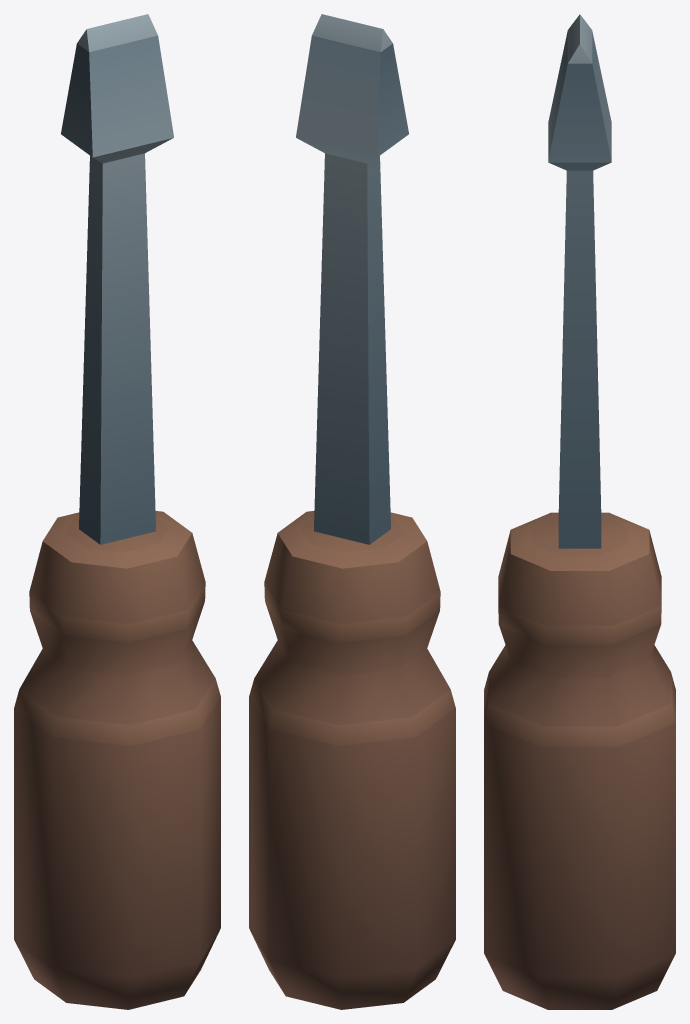
File: screwdriver_a_long.glb
3 renders of one model, left to right at view 1: azimuth 30°, elevation 25°; view 2: azimuth 150°, elevation 25°; view 3: azimuth 270°, elevation 25°, orthographic.
Parts seen in each view (by area): view 1: screwdriver_A_long; view 2: screwdriver_A_long; view 3: screwdriver_A_long.
Part boxes in pixels (x1,y1,x2,y2): screwdriver_A_long: [14, 14, 220, 1009]; screwdriver_A_long: [249, 14, 455, 1009]; screwdriver_A_long: [484, 14, 675, 1009].
Size of the model in its own units: 0.0908 by 0.506 by 0.0908.
1 material, 1 textured.
